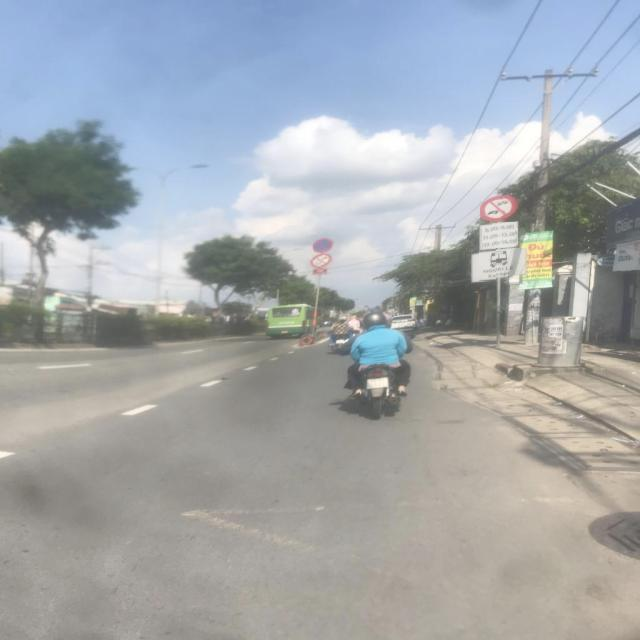107-cam-oto-khach-va-oto-tai: (481, 195, 518, 221)
